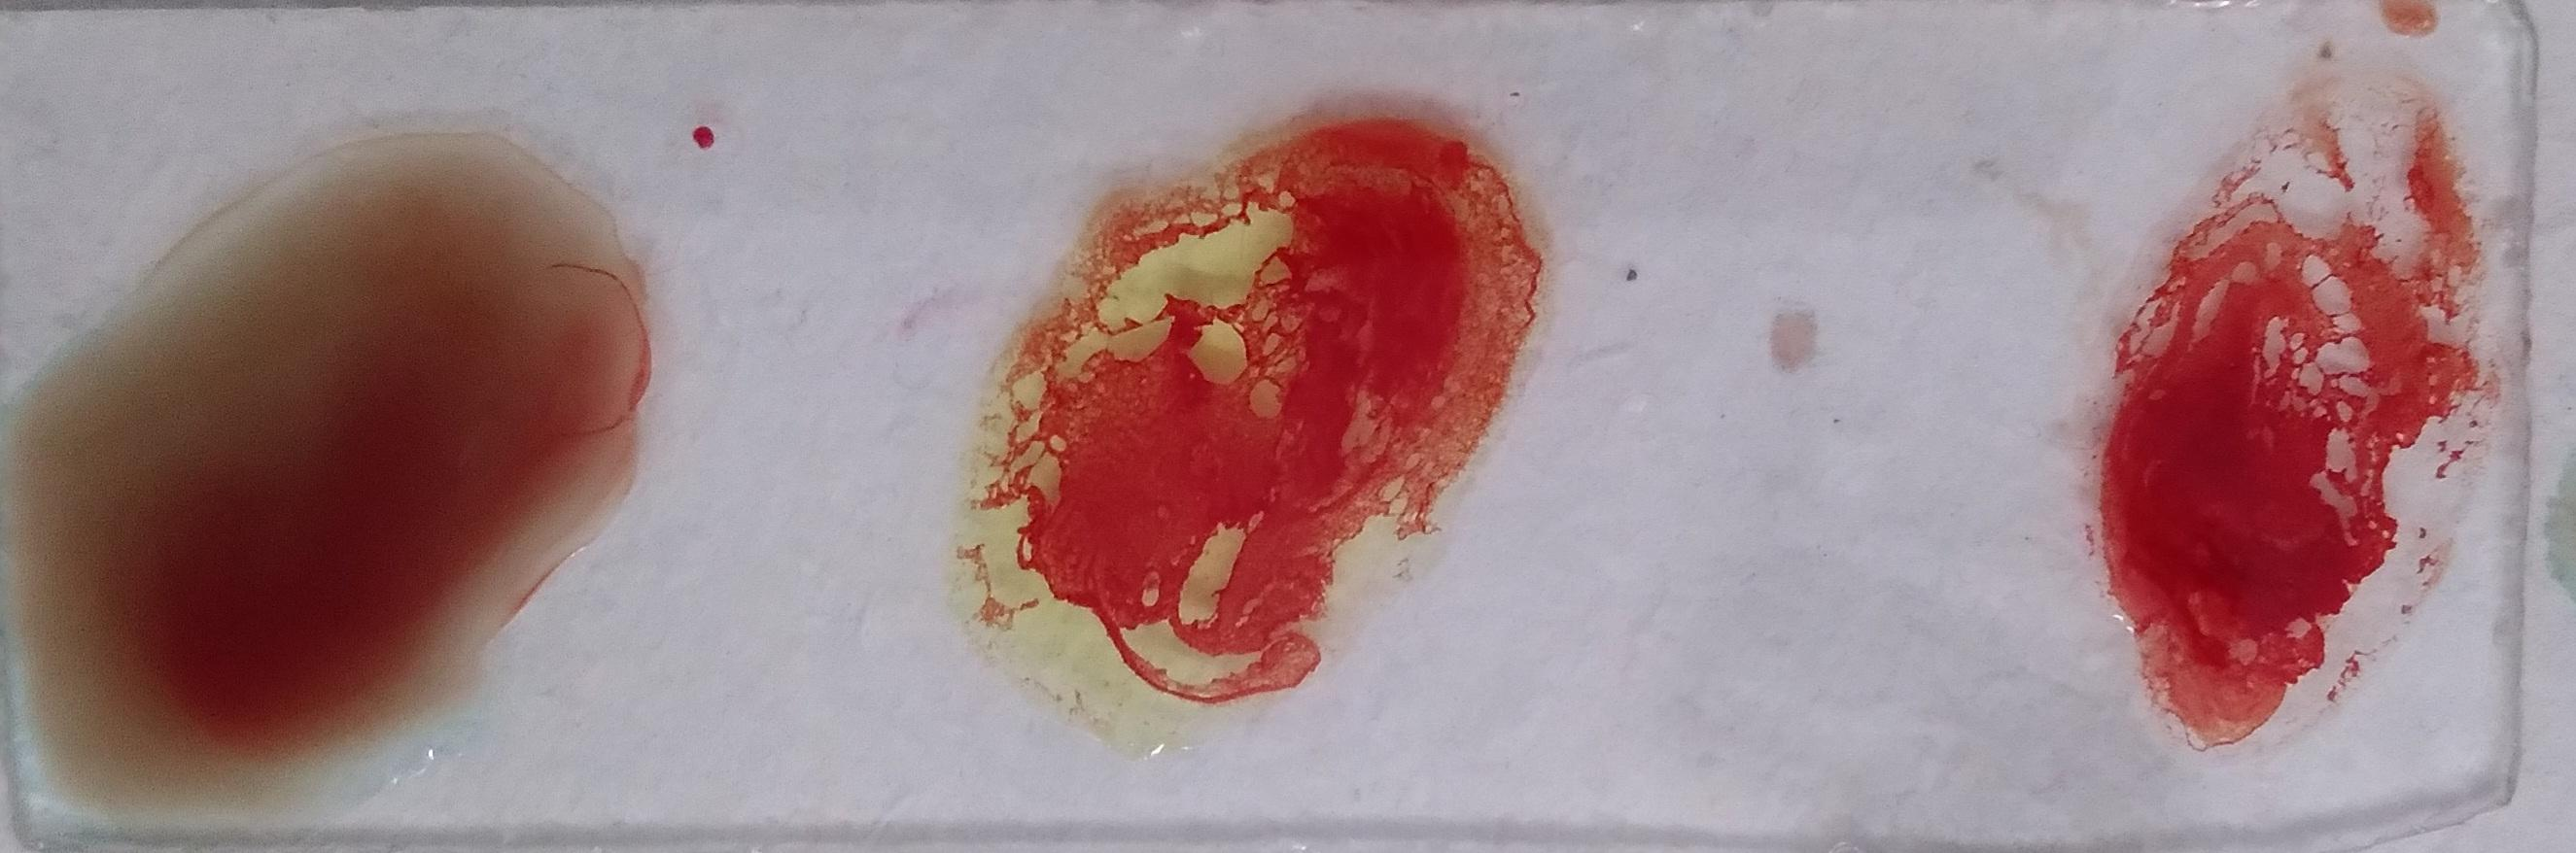B: (1043, 105, 1607, 753)
D: (85, 97, 472, 782)
